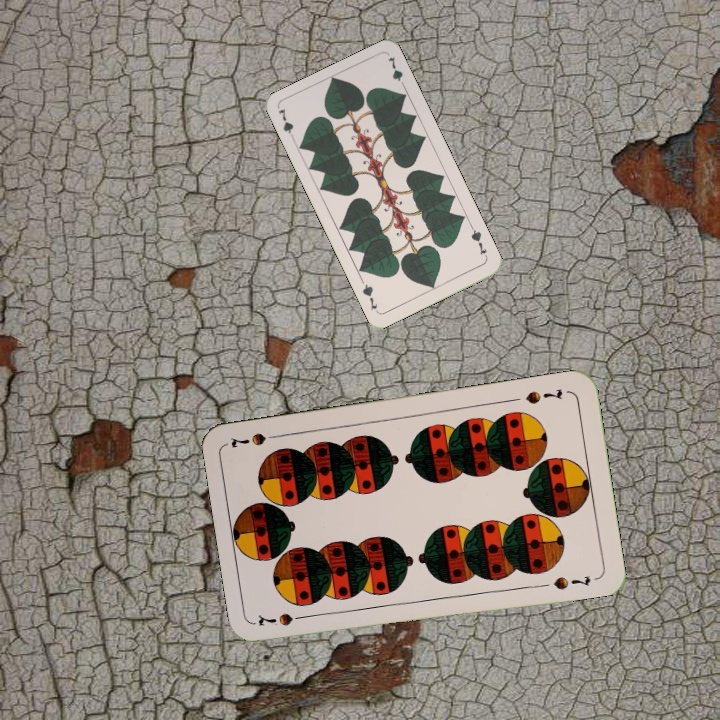G7: (274, 104, 298, 144), (466, 223, 490, 261)
S7: (254, 609, 313, 629), (522, 384, 565, 407)
